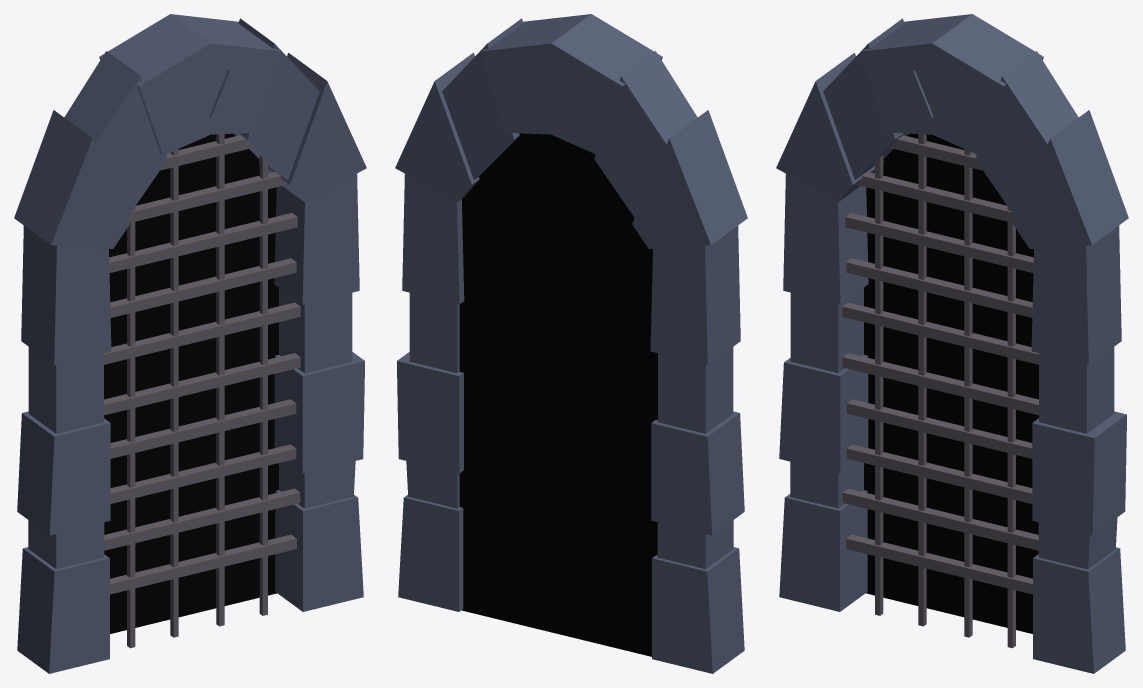
File: DoorClose.fbx
3 renders of one model, left to right at view 1: azimuth 30°, elevation 25°; view 2: azimuth 150°, elevation 25°; view 3: azimuth 330°, elevation 25°, orthographic.
Visible parts, largest first — view 1: Plane; view 2: Plane; view 3: Plane.
Boxes of the visible parts, x1=… form: Plane: x1=14, y1=14, x2=366, y2=673; Plane: x1=395, y1=14, x2=747, y2=673; Plane: x1=776, y1=14, x2=1128, y2=673.
Size of the model in its own units: 1.06 by 1.91 by 0.234.
